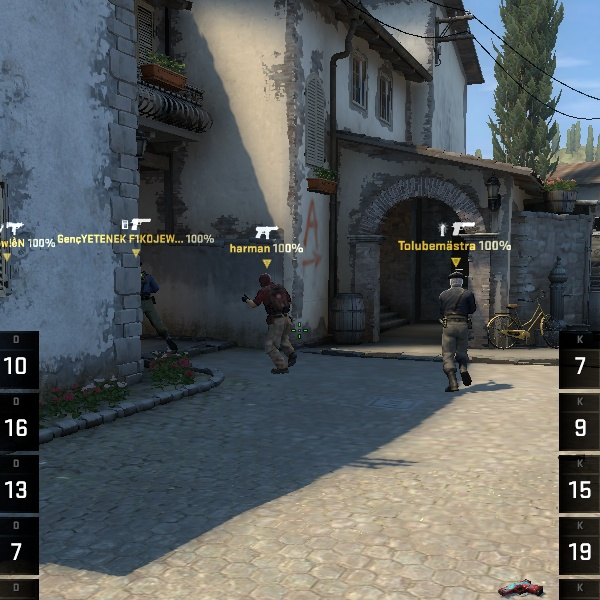t_body: (423, 269, 489, 394), (241, 268, 300, 371)
